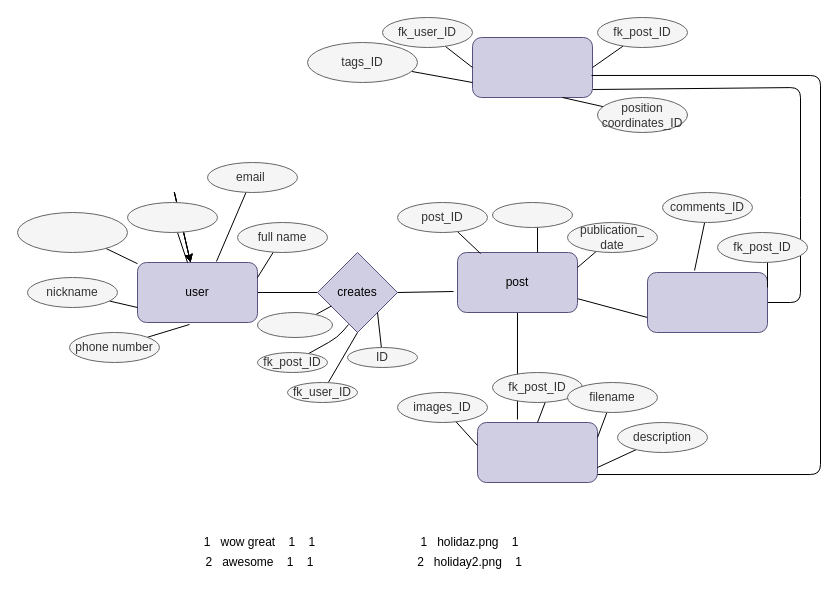
The diagram is 839 pixels wide and 590 high, and some of its shapes have lost their labels. The shapes that lost their labels are listed below. From the top down, each one's centre as x and y in pixels, then its label:
At (x=532, y=67): "tags".
At (x=72, y=232): "user_ID".
At (x=172, y=217): "password".
At (x=532, y=215): "text".
At (x=707, y=302): "comments".
At (x=294, y=325): "creation_date".
At (x=537, y=452): "images".
